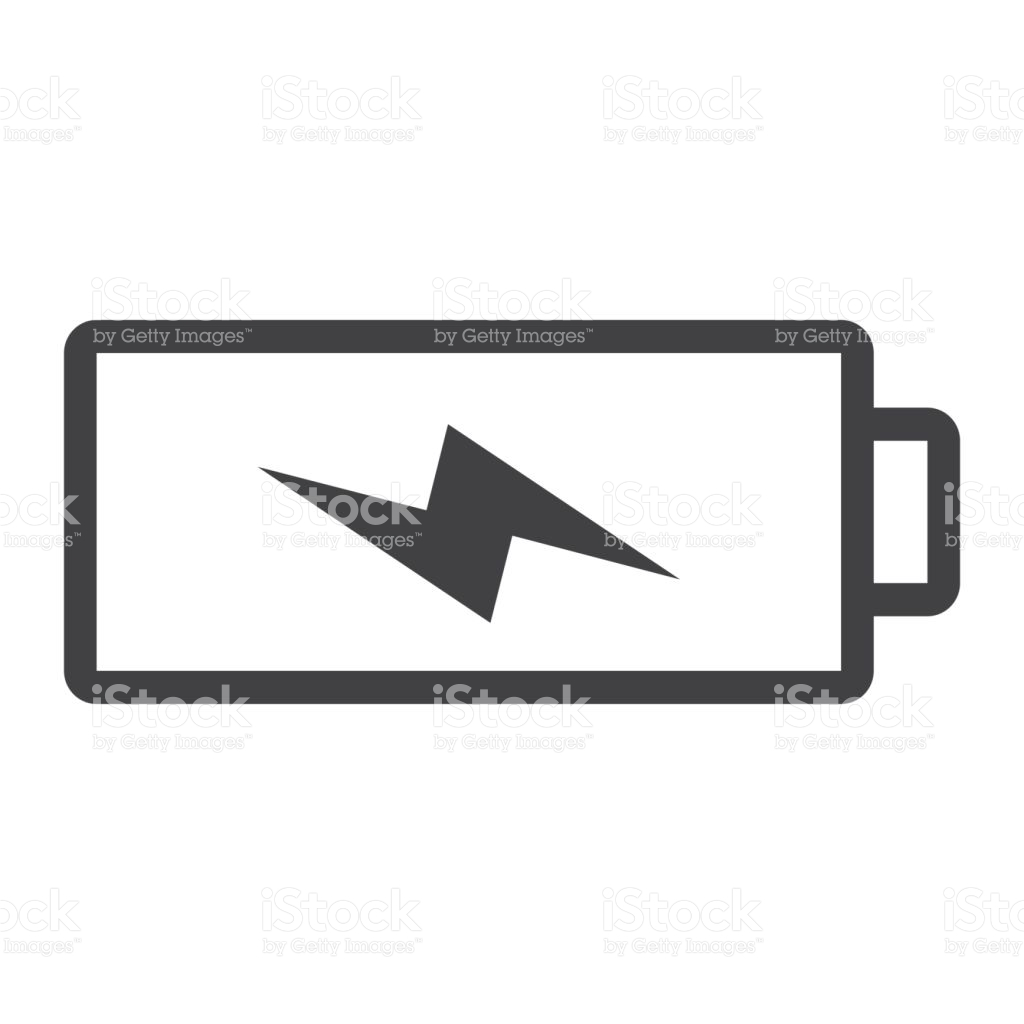charging sign: (28, 274, 1024, 823)
